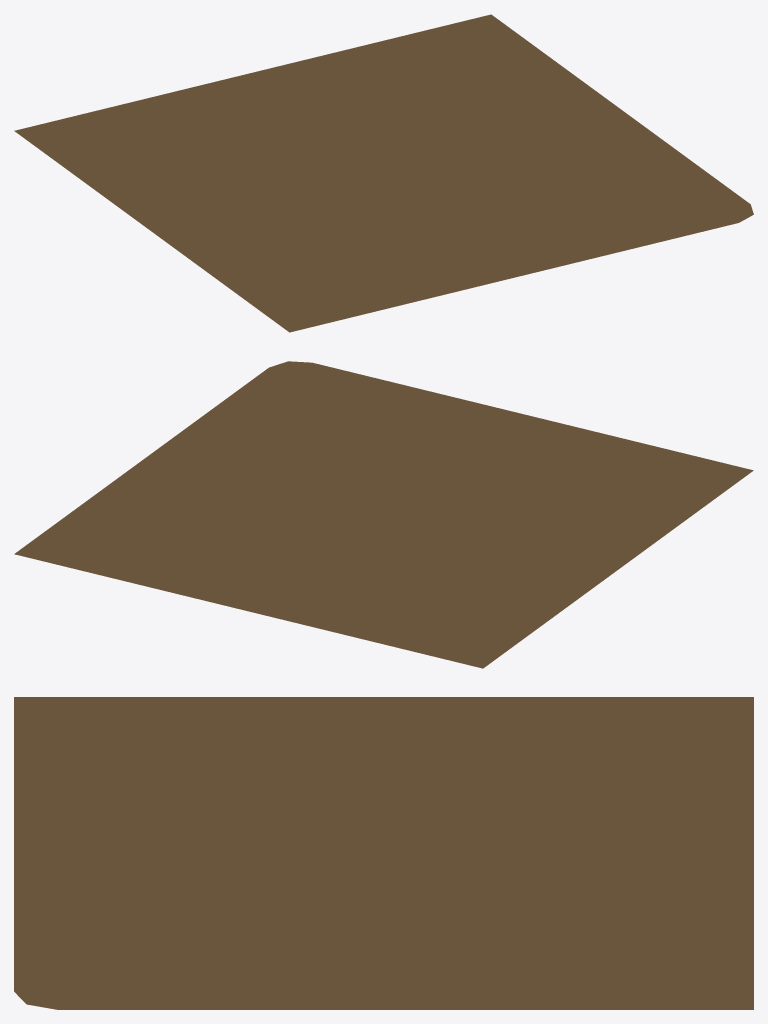
Rendered from Ground_3.fbx.
3 views of the same model, one above another, from view 1: azimuth 30°, elevation 25°; view 2: azimuth 150°, elevation 25°; view 3: azimuth 270°, elevation 25° (orthographic). The views are drawn at different scales.
Parts seen in each view (by area): view 1: Ground_3; view 2: Ground_3; view 3: Ground_3.
Boxes of the visible parts, x1=… form: Ground_3: x1=14, y1=14, x2=753, y2=332; Ground_3: x1=14, y1=361, x2=753, y2=668; Ground_3: x1=14, y1=697, x2=753, y2=1009.
Bounding box in the file's own units: 800 × 0 × 800.
